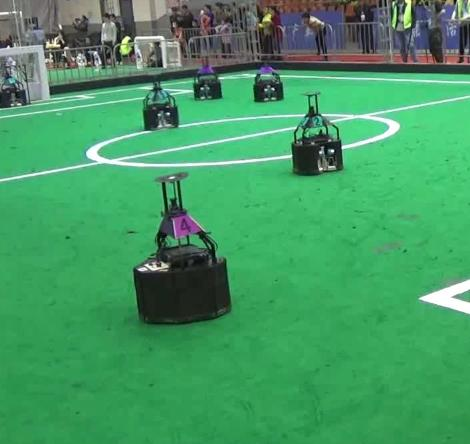robot: (127, 169, 235, 325), (282, 90, 348, 178)
